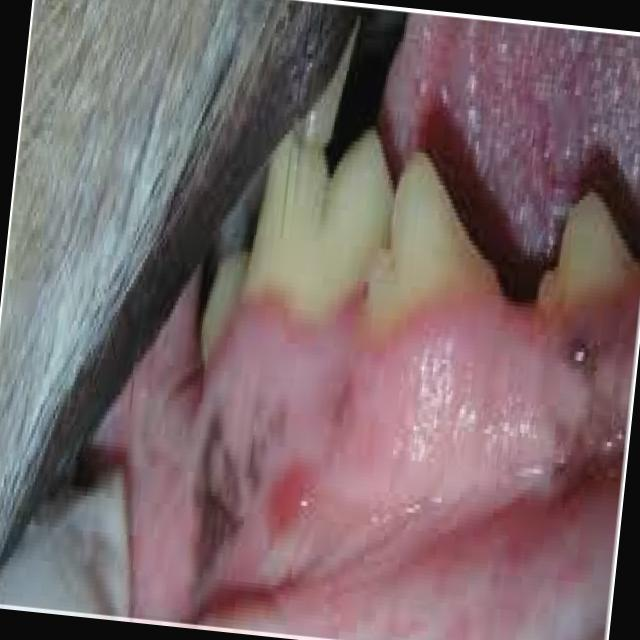abscess: (249, 442, 335, 554)
